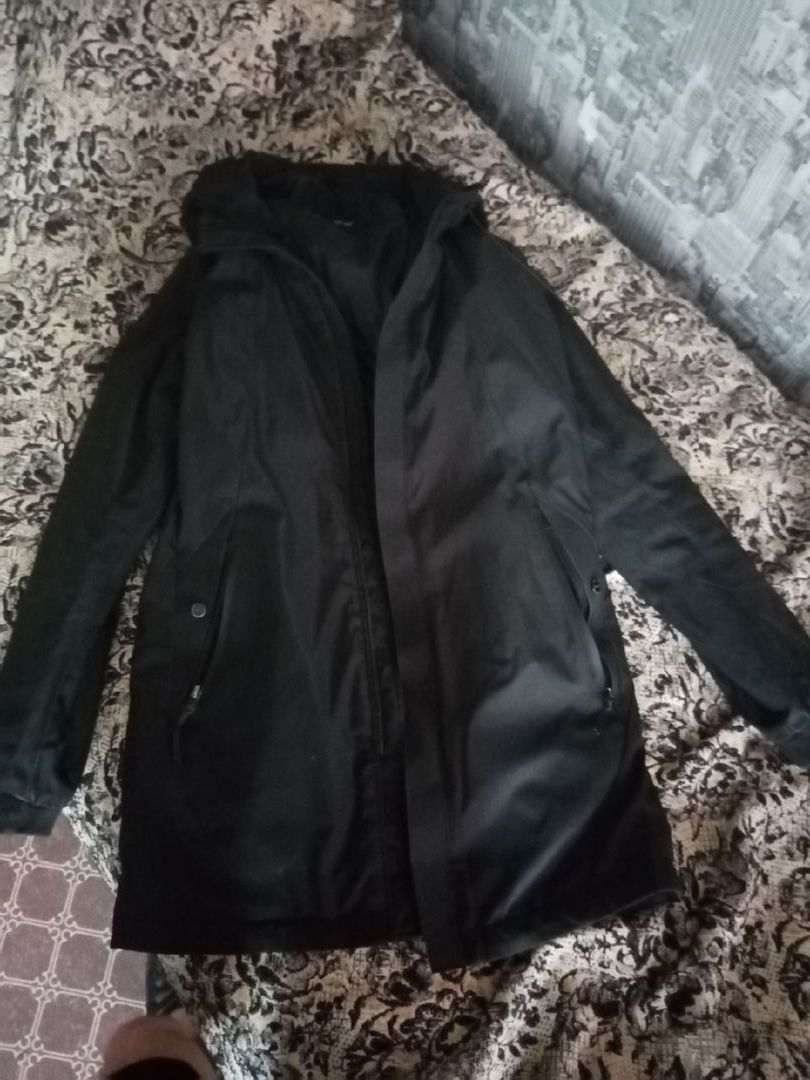clothes: (3, 144, 810, 951)
